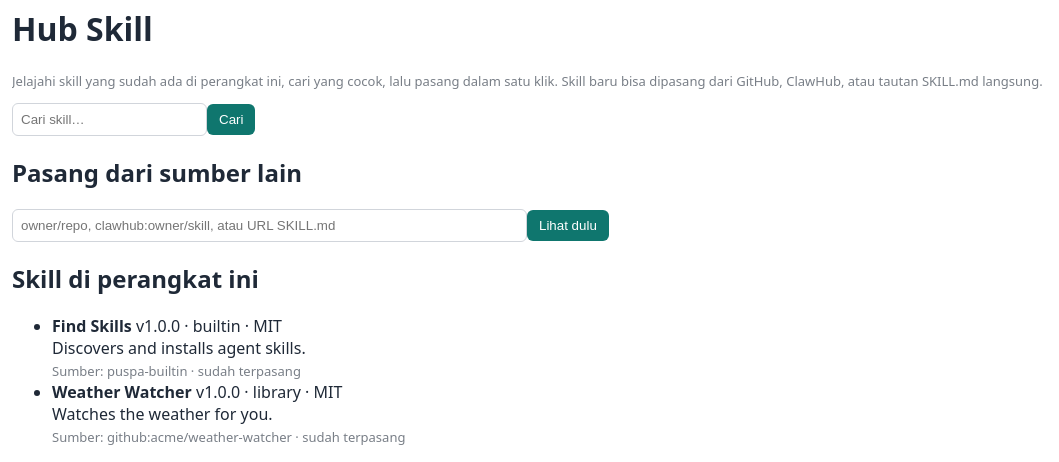
Test: HubScreen › says plainly when no skill matches the search
Expected: the text "Find Skills" is shown, [52,314,132,336]
Step 1. Type "tidak-ada" into the search field labelled "Cari skill" → (110, 119), box [12,103,207,136]
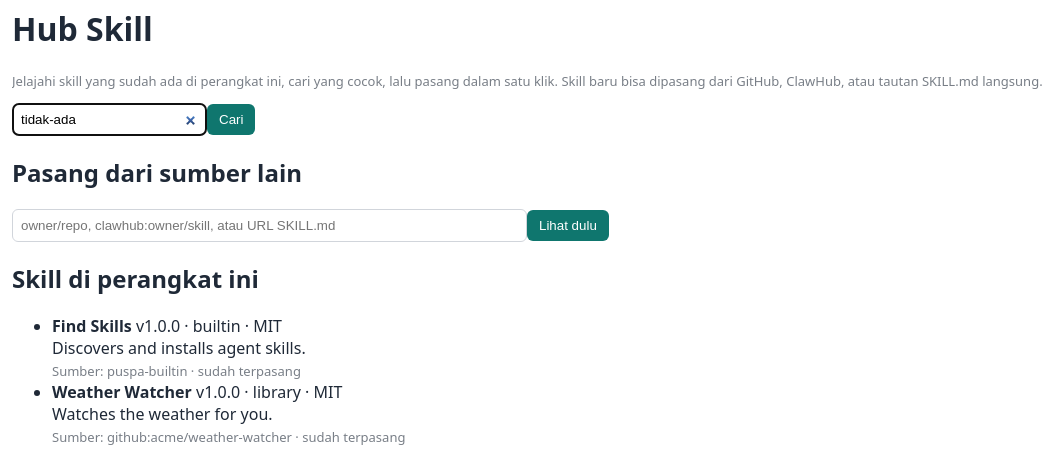
Step 2. Click the button "Cari" → click(231, 119), box [207,104,255,135]
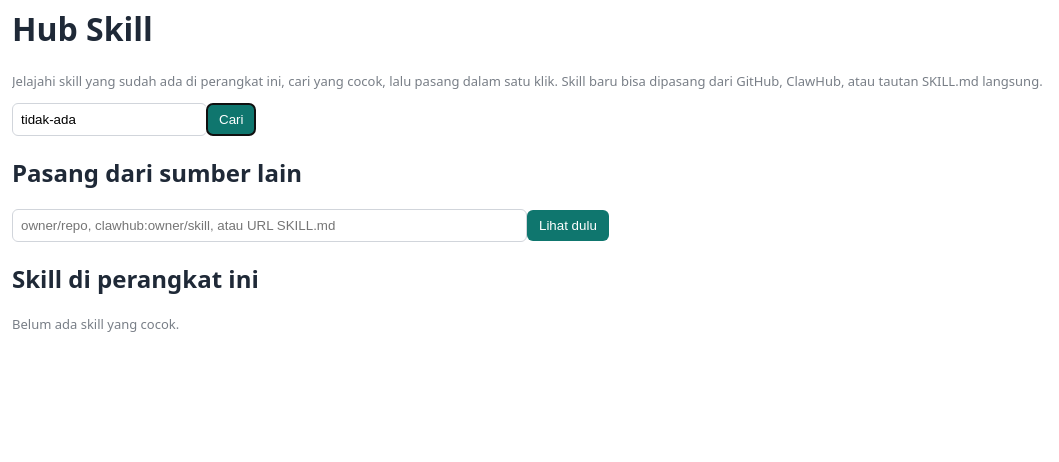
Expected: the text "Belum ada skill yang cocok." is shown, [12,314,179,332]
